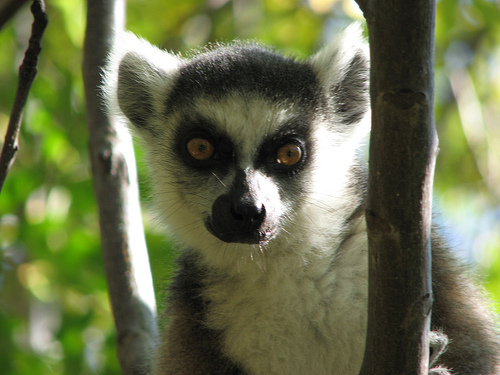cat: (107, 24, 499, 374)
